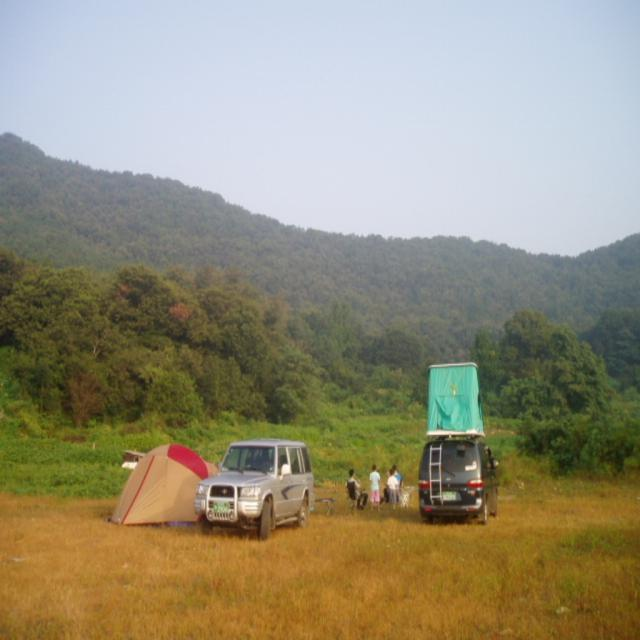car: (187, 436, 318, 542), (417, 438, 498, 520)
